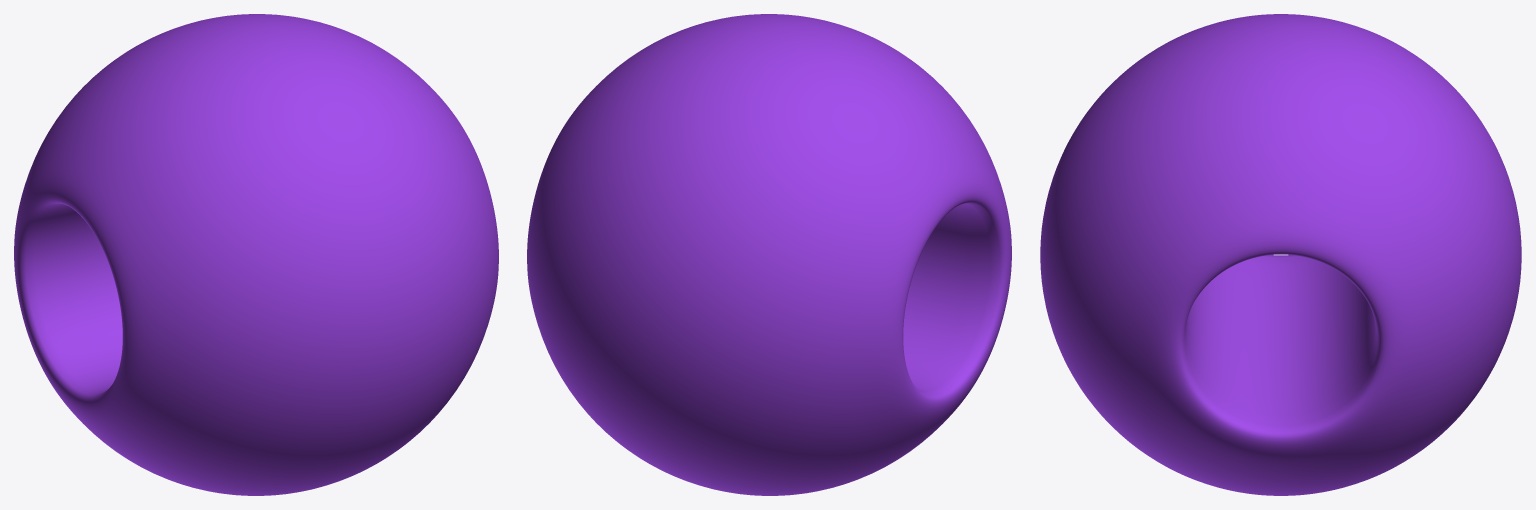
3 renders of one model, left to right at view 1: azimuth 30°, elevation 25°; view 2: azimuth 150°, elevation 25°; view 3: azimuth 270°, elevation 25°, orthographic.
Visible parts, largest first — view 1: purple; view 2: purple; view 3: purple.
Part boxes in pixels (x1,y1,x2,y2): purple: (14,14,498,495); purple: (527,14,1011,495); purple: (1040,14,1521,495).
Bounding box in the file's own units: 1.75 × 1.97 × 1.97.
